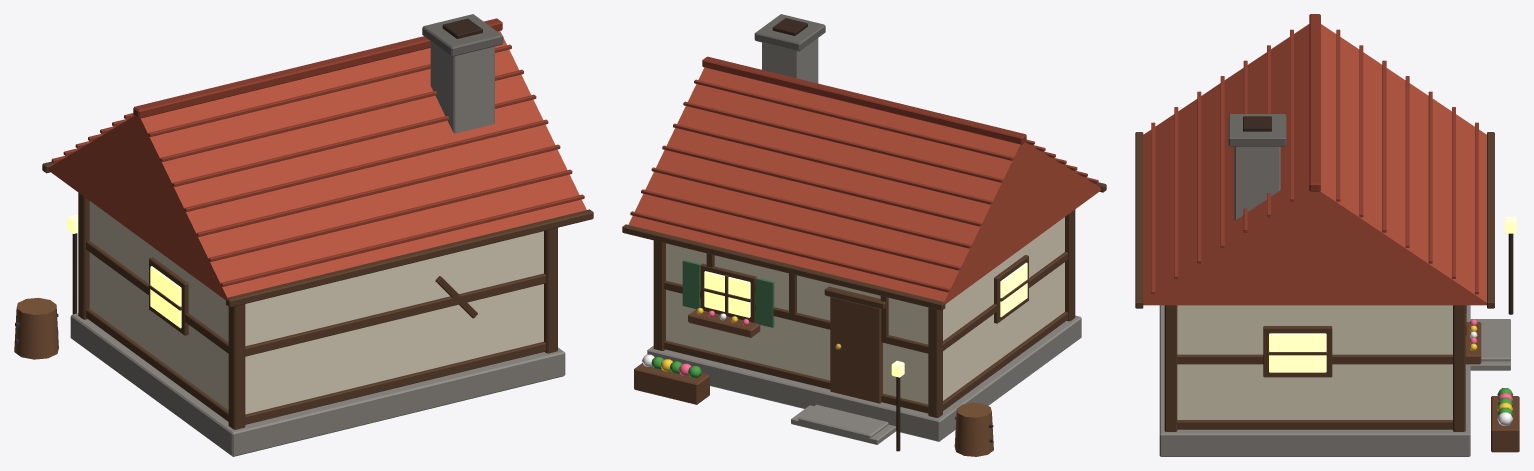
Rendered from scenery.glb.
The picture shows the model from 3 angles, left to right: view 1: azimuth 30°, elevation 25°; view 2: azimuth 150°, elevation 25°; view 3: azimuth 270°, elevation 25°; orthographic projection. The views are drawn at different scales.
Parts seen in each view (by area): view 1: roof.001, walls_eadfc6, walls_8e8a84, walls_5b3e2b, trim_93412e, trim_8a3a2a, trim_5b3e2b, garden_7a5236, walls_6d6a65, walls_ffd27a; view 2: roof.001, walls_eadfc6, walls_8e8a84, walls_5b3e2b, trim_93412e, walls_6b4630, trim_8a3a2a, trim_5b3e2b, walls_ffd27a, garden_6b4630, garden_7a5236, walls_4a7a56 (+1 smaller); view 3: roof.001, walls_eadfc6, walls_8e8a84, trim_93412e, walls_5b3e2b, trim_5b3e2b, walls_ffd27a, trim_8a3a2a, walls_6d6a65, garden_6b4630, walls_6b4630, garden_3a2a20 (+1 smaller).
Boxes of the visible parts, <box> form: roof.001: <box>48,31,586,299</box>; walls_eadfc6: <box>89,201,543,414</box>; walls_8e8a84: <box>70,41,565,456</box>; walls_5b3e2b: <box>78,192,557,429</box>; trim_93412e: <box>51,44,584,286</box>; trim_8a3a2a: <box>133,18,502,118</box>; trim_5b3e2b: <box>42,161,593,307</box>; garden_7a5236: <box>14,297,58,359</box>; walls_6d6a65: <box>422,14,503,56</box>; walls_ffd27a: <box>150,266,181,328</box>; roof.001: <box>628,67,1101,303</box>; walls_eadfc6: <box>666,217,1064,404</box>; walls_8e8a84: <box>647,38,1081,444</box>; walls_5b3e2b: <box>653,209,1075,417</box>; trim_93412e: <box>630,79,1098,292</box>; walls_6b4630: <box>688,297,882,403</box>; trim_8a3a2a: <box>702,56,1026,144</box>; trim_5b3e2b: <box>622,182,1106,310</box>; walls_ffd27a: <box>704,262,1027,317</box>; garden_6b4630: <box>634,363,709,404</box>; garden_7a5236: <box>954,402,993,456</box>; walls_4a7a56: <box>682,259,774,327</box>; roof.001: <box>1143,24,1486,305</box>; walls_eadfc6: <box>1177,305,1452,419</box>; walls_8e8a84: <box>1159,146,1510,456</box>; trim_93412e: <box>1151,29,1478,294</box>; walls_5b3e2b: <box>1164,305,1466,431</box>; trim_5b3e2b: <box>1135,132,1494,308</box>; walls_ffd27a: <box>1269,333,1326,372</box>; trim_8a3a2a: <box>1309,14,1320,191</box>; walls_6d6a65: <box>1228,114,1286,146</box>; garden_6b4630: <box>1491,396,1519,452</box>; walls_6b4630: <box>1465,322,1481,364</box>; garden_3a2a20: <box>1508,233,1513,314</box>.
Size of the model in its own units: 7.8 by 6.36 by 6.67.
